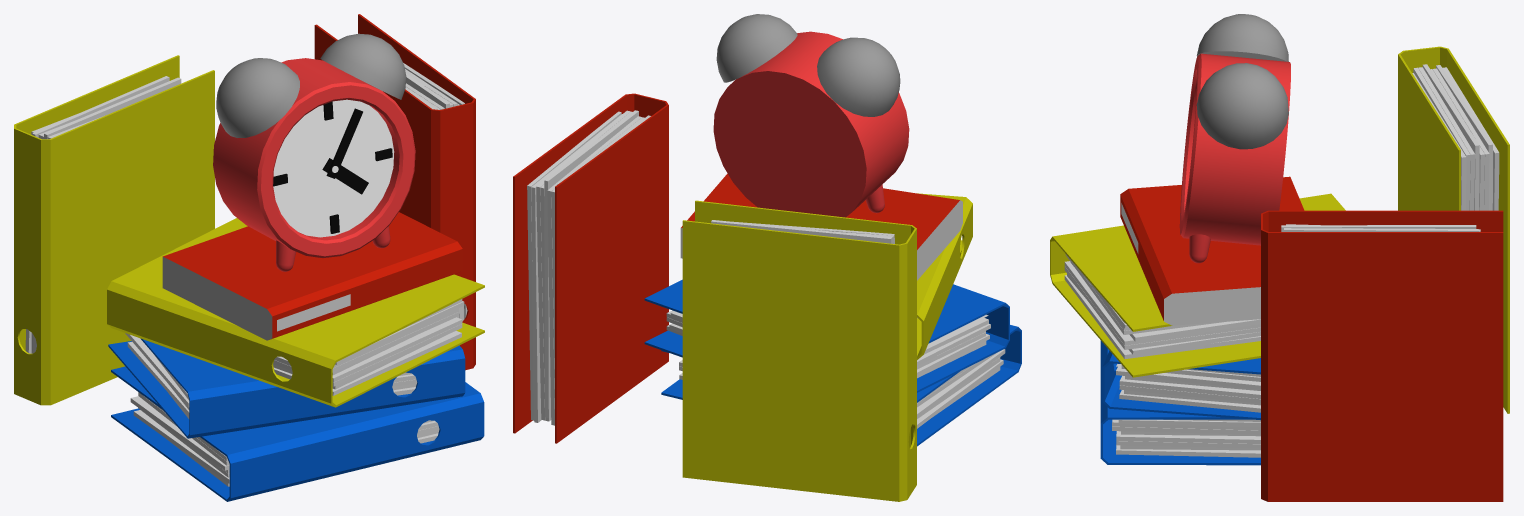
The model's file is #04_Obj_Papers.FBX.
3 renders of one model, left to right at view 1: azimuth 30°, elevation 25°; view 2: azimuth 150°, elevation 25°; view 3: azimuth 270°, elevation 25°, orthographic. The views are drawn at different scales.
Visible parts, largest first — view 1: binder003, clock, binder004, binder001, polySurface1123, binder002, binder; view 2: binder003, binder, clock, binder002, polySurface1123, binder001, binder004; view 3: binder, clock, binder003, binder004, polySurface1123, binder001, binder002.
Part boxes in pixels (box(x1,y1,x2,y2)): binder003: box(14, 55, 214, 405); clock: box(213, 33, 415, 271); binder004: box(107, 218, 484, 407); binder001: box(111, 366, 484, 501); polySurface1123: box(162, 212, 462, 340); binder002: box(108, 333, 465, 438); binder: box(314, 14, 475, 370); binder003: box(682, 200, 916, 501); binder: box(513, 93, 668, 443); clock: box(713, 14, 909, 217); binder002: box(644, 279, 1009, 392); polySurface1123: box(680, 173, 962, 280); binder001: box(661, 325, 1021, 446); binder004: box(917, 193, 972, 359); binder: box(1261, 210, 1503, 501); clock: box(1179, 14, 1290, 263); binder003: box(1398, 46, 1509, 413); binder004: box(1050, 193, 1345, 377); polySurface1123: box(1120, 176, 1304, 325); binder001: box(1100, 340, 1260, 465); binder002: box(1102, 350, 1260, 420).
Size of the model in its own units: 476 by 442 by 496.
